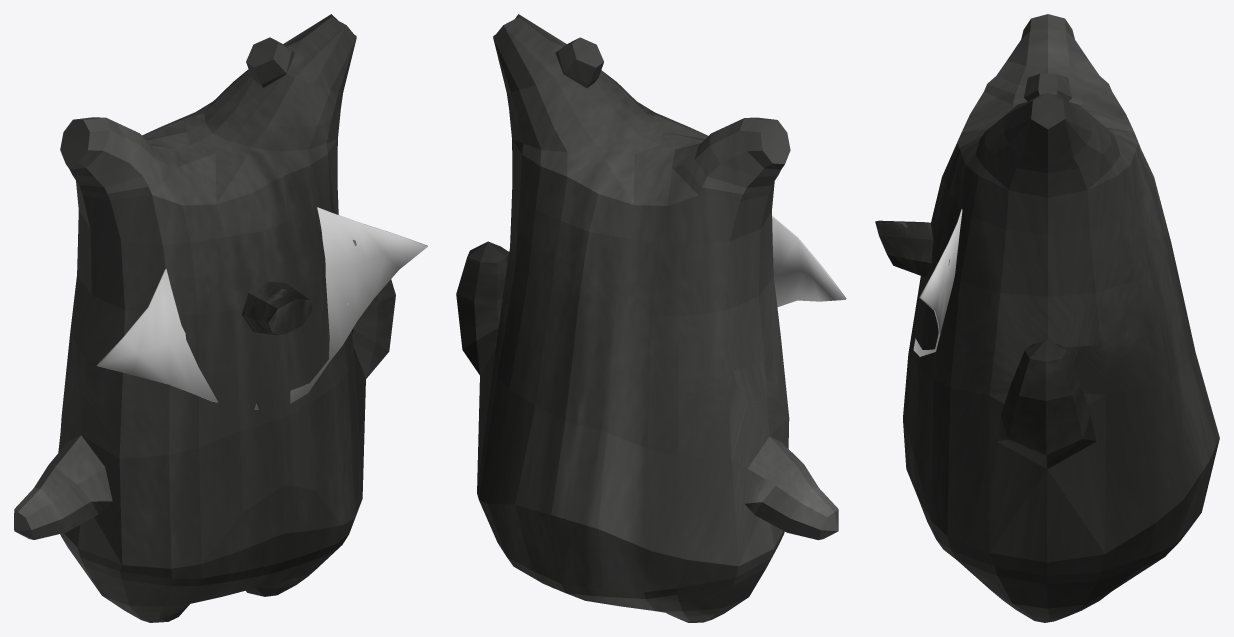
File: frame_0039.obj
3 views of the same model, side by side, from view 1: azimuth 30°, elevation 25°; view 2: azimuth 150°, elevation 25°; view 3: azimuth 270°, elevation 25° (orthographic).
Visible parts, largest first — view 1: korok, leaf, nose; view 2: korok, leaf; view 3: korok, nose, leaf.
Part boxes in pixels (left/top/right/bottom): korok: left=14, top=14, right=395, bottom=622; leaf: left=97, top=207, right=427, bottom=409; nose: left=242, top=281, right=312, bottom=334; korok: left=456, top=14, right=838, bottom=622; leaf: left=772, top=216, right=846, bottom=307; korok: left=903, top=14, right=1219, bottom=622; nose: left=875, top=220, right=933, bottom=276; leaf: left=913, top=209, right=962, bottom=356.
Bounding box in the file's own units: 1.6 × 2.27 × 1.27.
